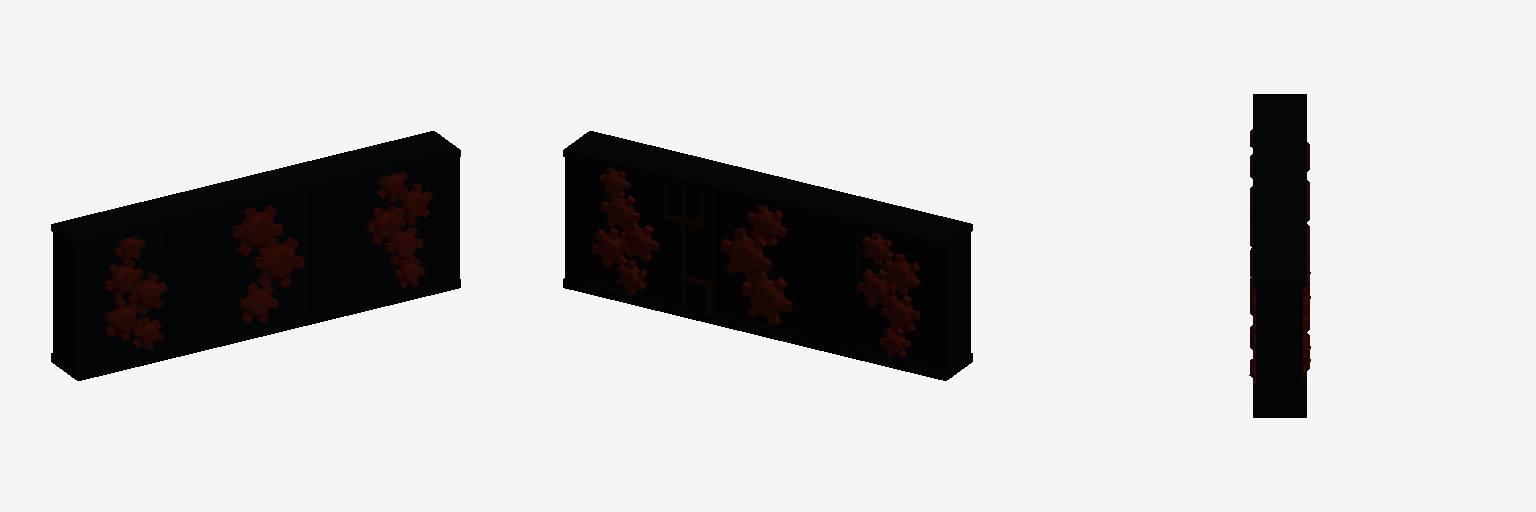
File: Wall_gears.obj
The picture shows the model from 3 angles: view 1: azimuth 30°, elevation 25°; view 2: azimuth 150°, elevation 25°; view 3: azimuth 270°, elevation 25°; orthographic projection.
Visible parts, largest first — view 1: wall_with_gears; view 2: wall_with_gears; view 3: wall_with_gears.
Boxes of the visible parts, x1,y1,x2,y2 form: wall_with_gears: [51, 131, 460, 380]; wall_with_gears: [563, 131, 972, 380]; wall_with_gears: [1249, 94, 1310, 417].
Size of the model in its own units: 8.74 by 3 by 1.21.